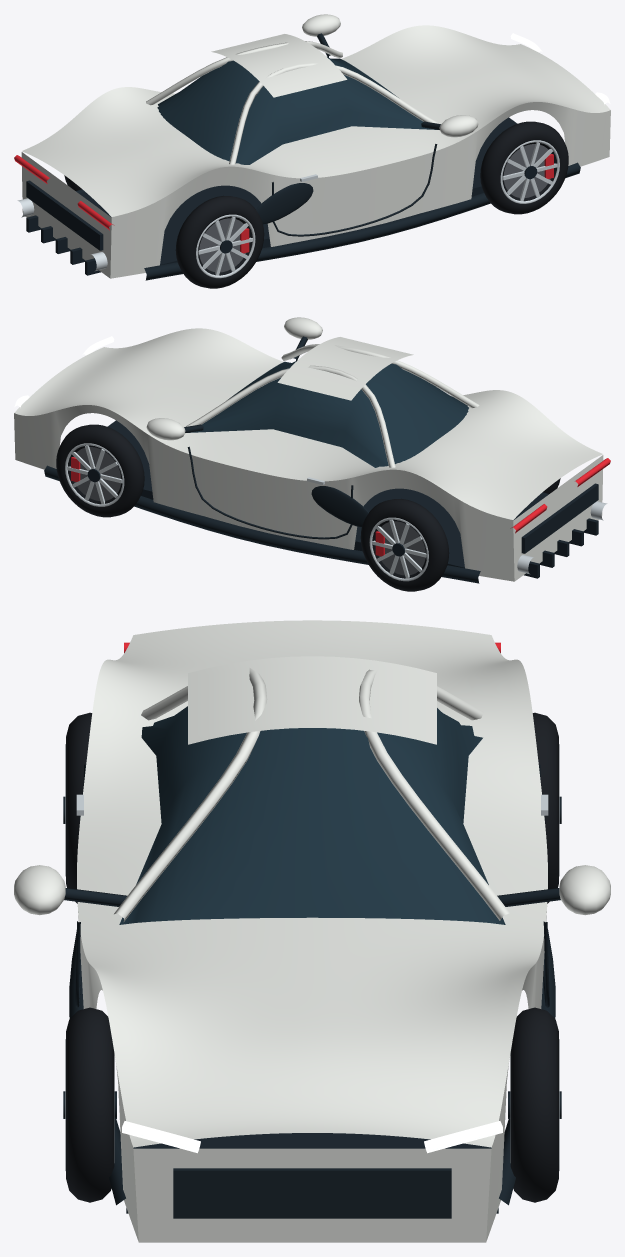
File: car15.glb
The picture shows the model from 3 angles, top to bottom: view 1: azimuth 30°, elevation 25°; view 2: azimuth 150°, elevation 25°; view 3: azimuth 270°, elevation 25°; orthographic projection. The views are drawn at different scales.
Visible parts, largest first — view 1: CAR15, rim (×2); view 2: CAR15, rim (×2); view 3: CAR15, front-grille.
Part boxes in pixels (<box>): CAR15: <box>14,14,610,288</box>; rim (×2): <box>196,140,559,278</box>; CAR15: <box>14,317,610,591</box>; rim (×2): <box>65,443,428,581</box>; CAR15: <box>14,620,610,1242</box>; front-grille: <box>173,1168,451,1218</box>.
Bounding box in the file's own units: 4.46 × 1.34 × 2.25.
